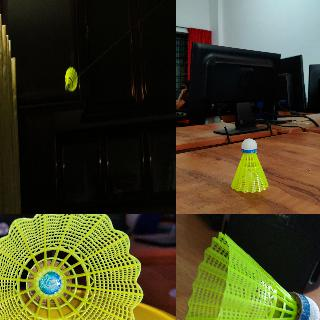shuttlecock: (0, 214, 145, 319), (185, 230, 320, 319), (231, 138, 269, 192), (65, 67, 77, 92)
